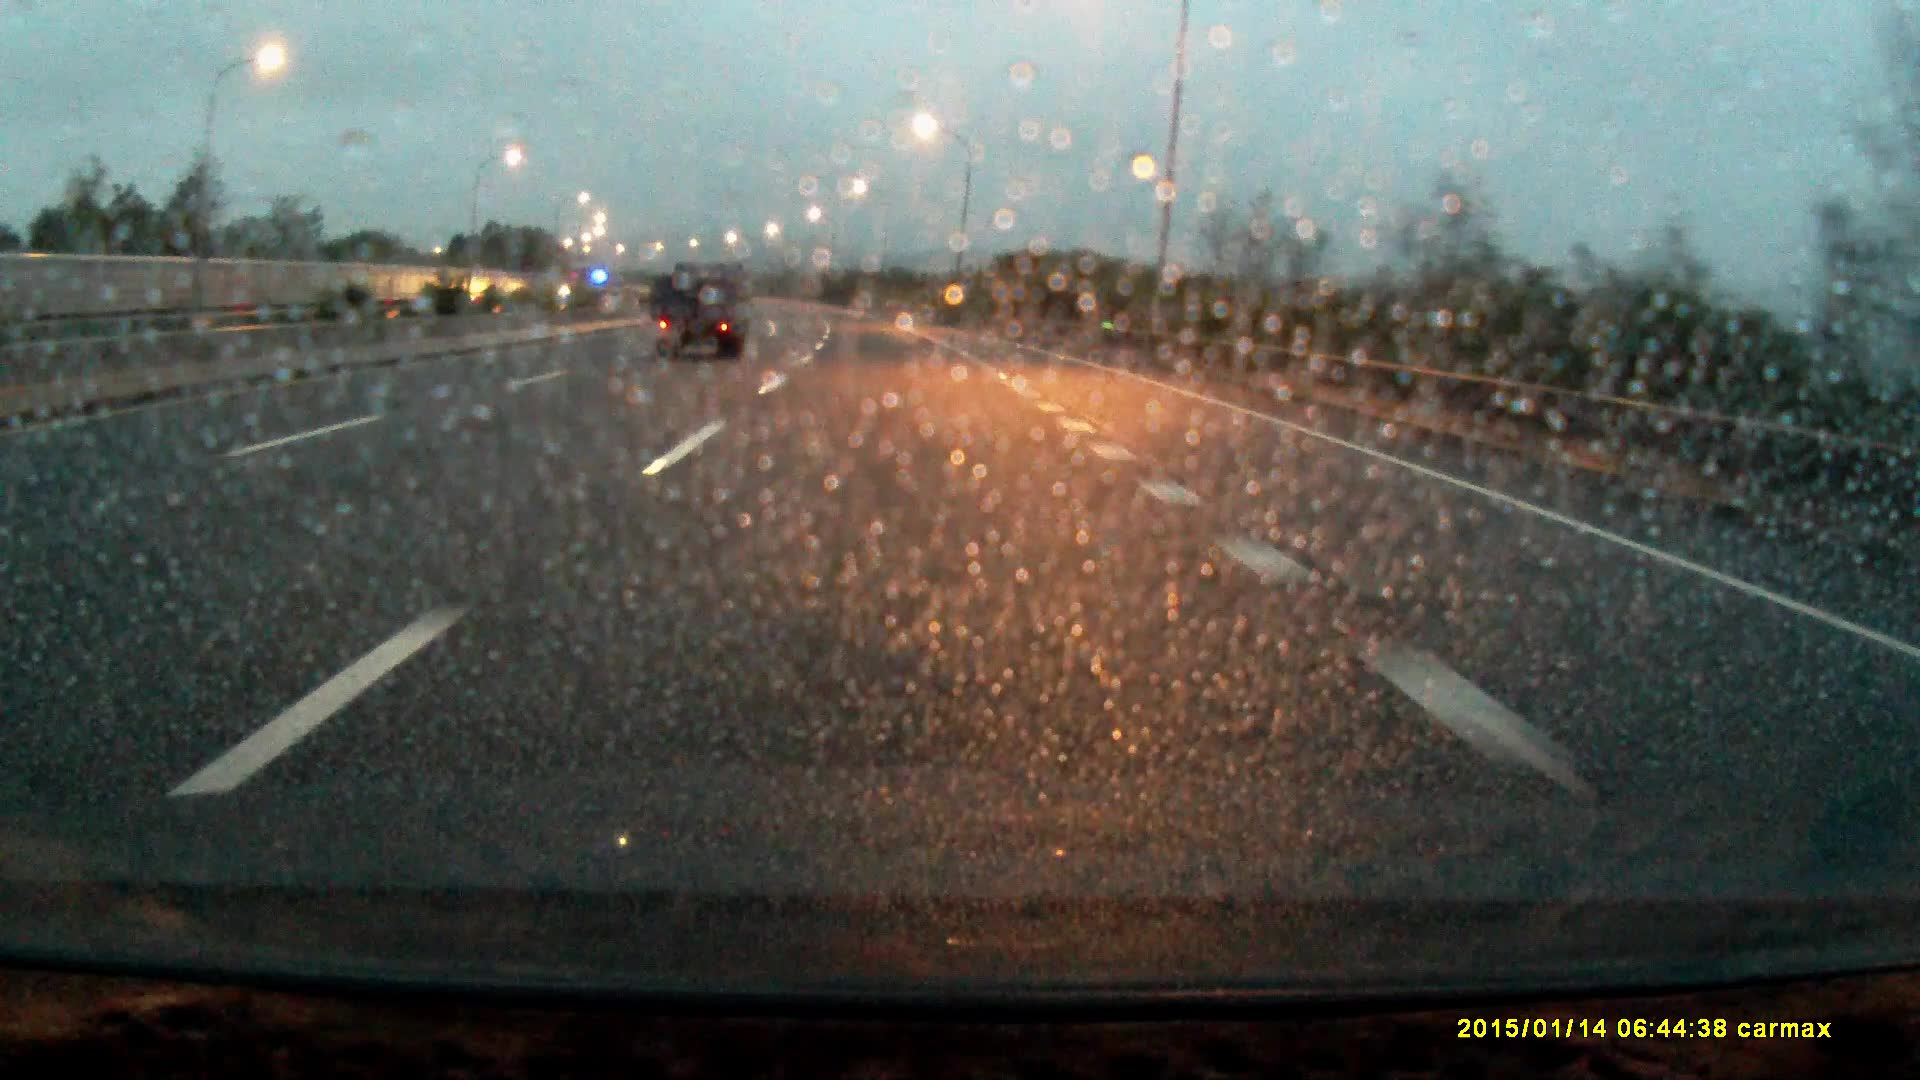vehicle: (654, 258, 752, 365)
